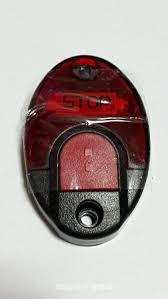bell: (25, 55, 151, 244)
